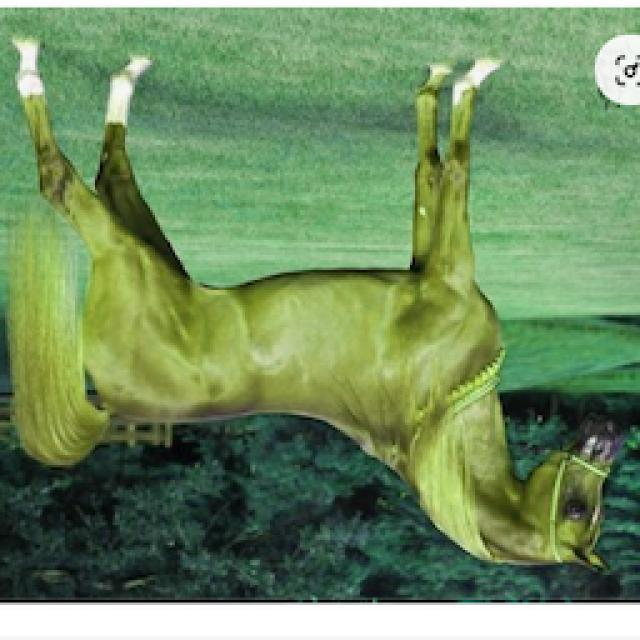Horse: (0, 35, 628, 578)
